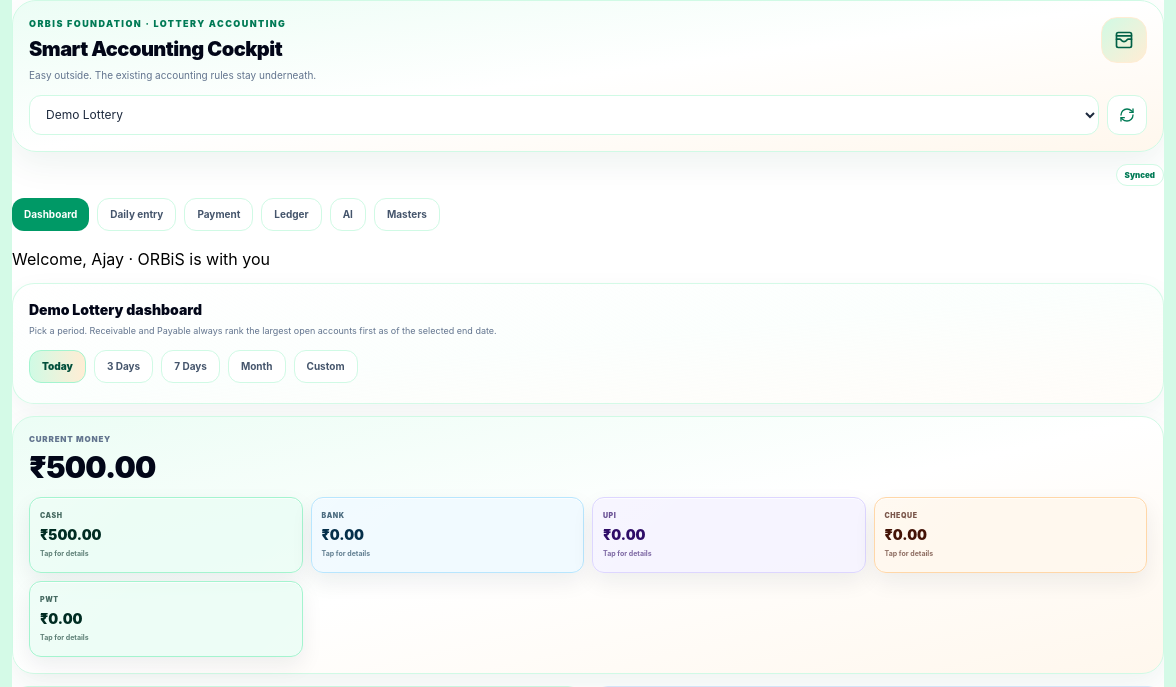
Test: LotteryAccountingWorkspace › shows an optional public greeting only on the dashboard
Expected: the text "Welcome, Ajay · ORBiS is with you" is shown, 12,249 -> 270,269
Click the button "Ledger": (292, 214) 261,198 -> 322,231
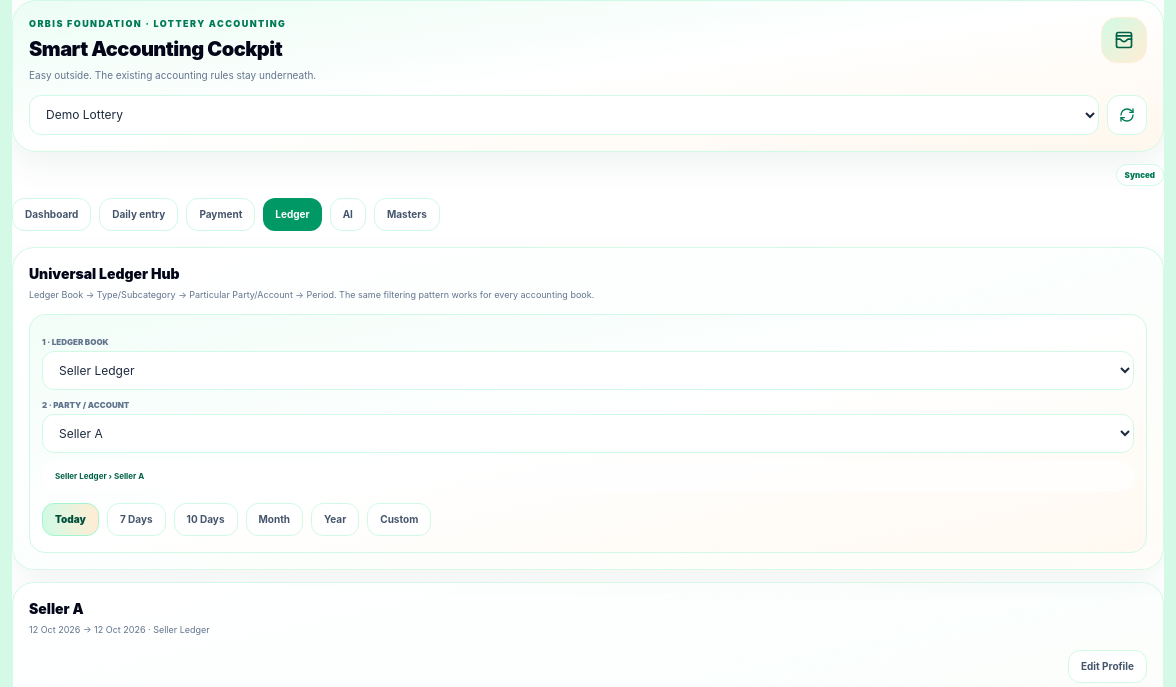
Expected: the text "Welcome, Ajay · ORBiS is with you" is gone
